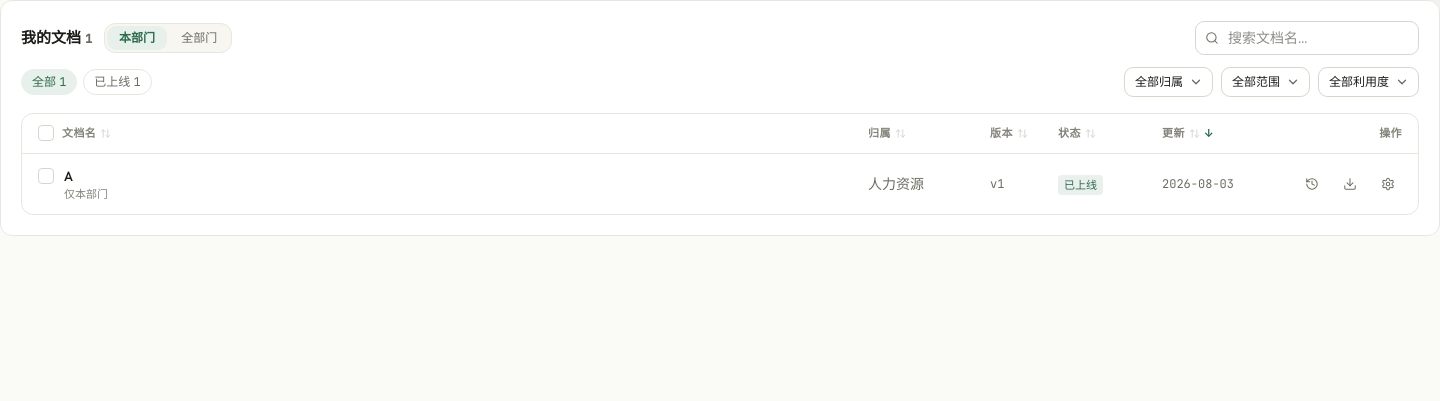
Test case: 行级菜单：公开文档的退役/恢复按钮前置禁用 › dept_admin + 部门内文档 → 可退役（规则只针对 public）
Click the button named "更多操作". click: (1388, 184)
box: x1=1374 y1=170 x2=1402 y2=198
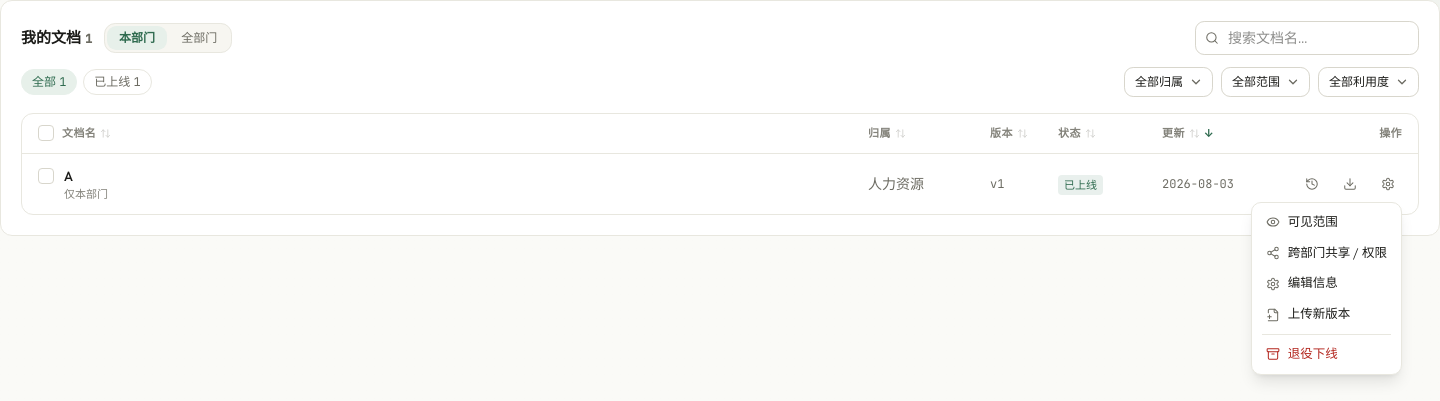
Now the menu item with test id "doc-retire" is enabled, box x1=1256 y1=339 x2=1397 y2=370
